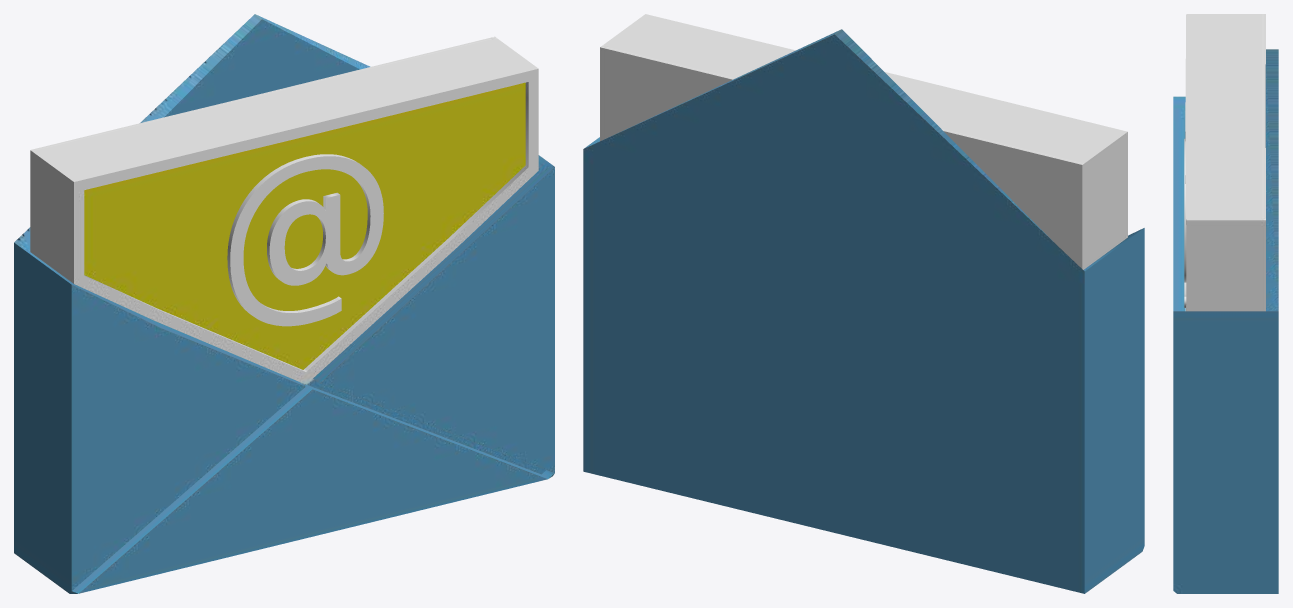
Rendered from EmailIcon.fbx.
The picture shows the model from 3 angles, left to right: view 1: azimuth 30°, elevation 25°; view 2: azimuth 150°, elevation 25°; view 3: azimuth 270°, elevation 25°; orthographic projection. The views are drawn at different scales.
Parts seen in each view (by area): view 1: open_letter, @; view 2: open_letter; view 3: open_letter, @.
Boxes of the visible parts, box(x1,y1,x2,y2) form: open_letter: box(14, 14, 554, 593); @: box(227, 154, 383, 326); open_letter: box(583, 14, 1144, 593); open_letter: box(1173, 14, 1278, 593); @: box(1184, 138, 1186, 307).
Bounding box in the file's own units: 20 × 19 × 4.14.
Materials: 2 (2 with a texture image).
